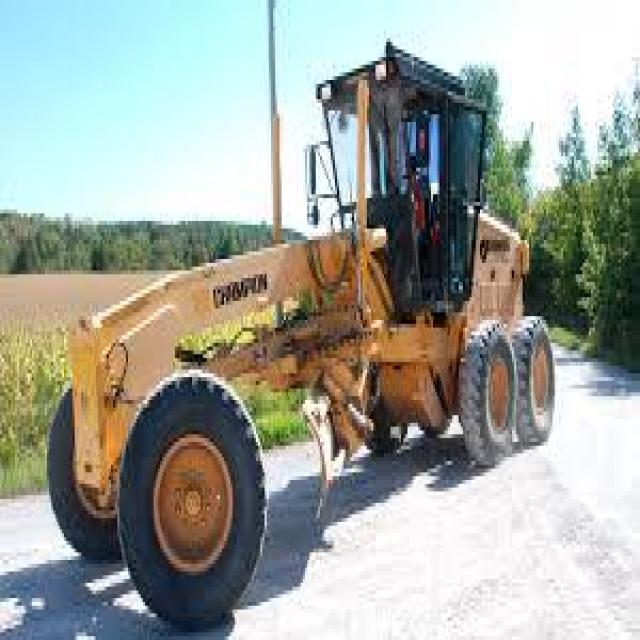buldozerpayloadergrader: (41, 31, 595, 617)
